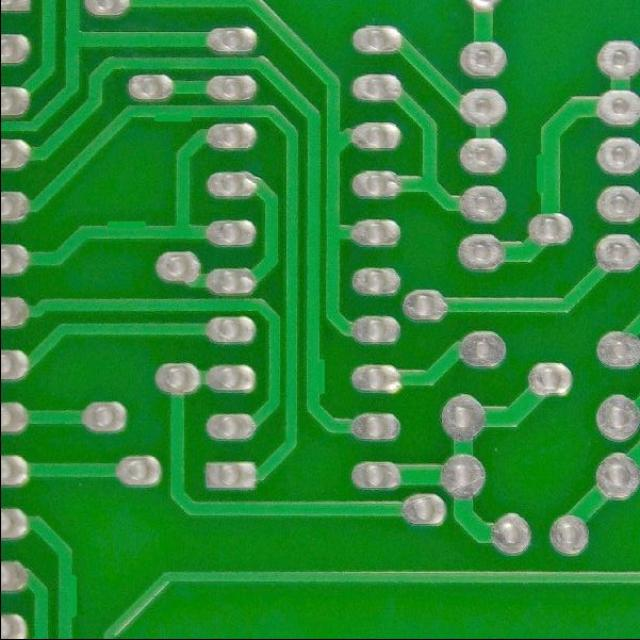spur: (529, 144, 569, 200), (52, 569, 82, 628), (102, 214, 149, 246), (300, 352, 329, 402), (147, 102, 193, 133)
